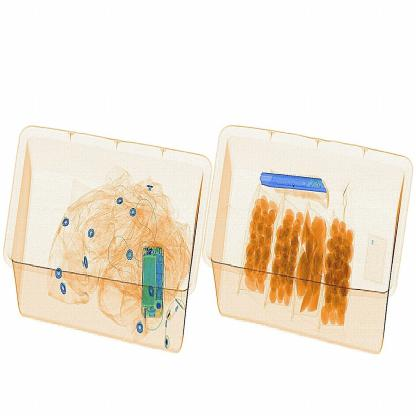pliers: (255, 168, 334, 204)
